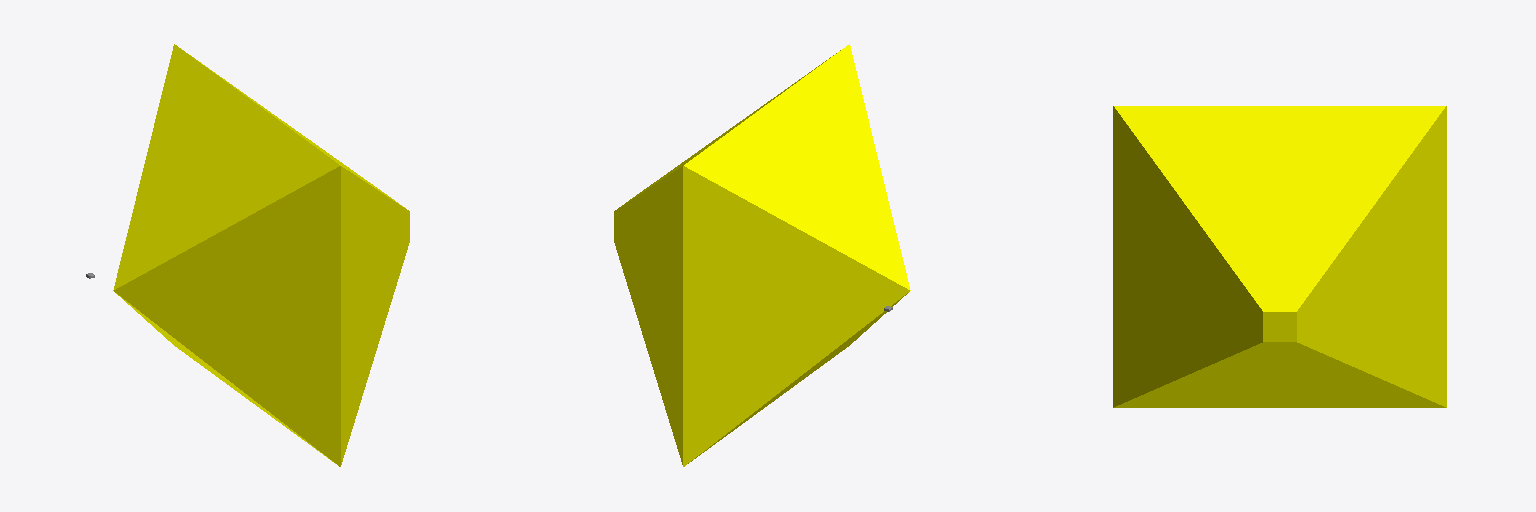
Rendered from mis_obj_OpenBlock2_HD.obj.
The picture shows the model from 3 angles: view 1: azimuth 30°, elevation 25°; view 2: azimuth 150°, elevation 25°; view 3: azimuth 270°, elevation 25°; orthographic projection.
Parts seen in each view (by area): view 1: wave; view 2: wave; view 3: wave.
Boxes of the visible parts, x1=… form: wave: x1=113, y1=44, x2=409, y2=466; wave: x1=614, y1=44, x2=910, y2=466; wave: x1=1113, y1=106, x2=1446, y2=407.
Bounding box in the file's own units: 3636 × 3600 × 3600.